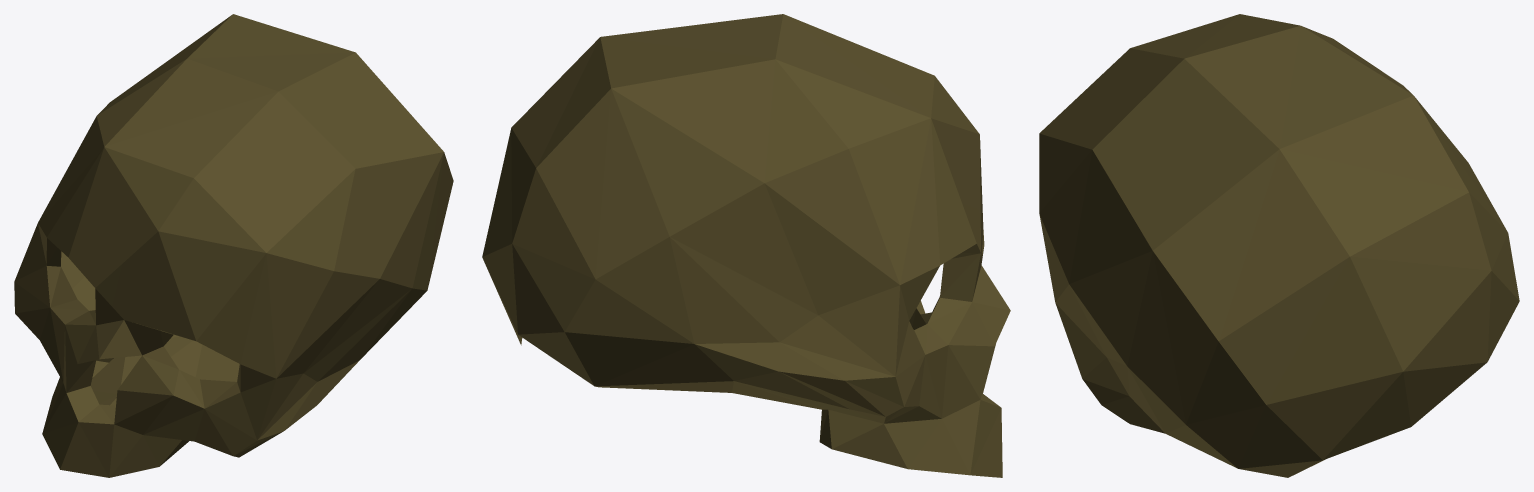
File: skull001_skull_0_lev1.glb
The picture shows the model from 3 angles, left to right: view 1: azimuth 30°, elevation 25°; view 2: azimuth 150°, elevation 25°; view 3: azimuth 270°, elevation 25°; orthographic projection. The views are drawn at different scales.
Parts seen in each view (by area): view 1: skull001_skull_0_lev1; view 2: skull001_skull_0_lev1; view 3: skull001_skull_0_lev1.
Part boxes in pixels (x1,y1,x2,y2): skull001_skull_0_lev1: (14,14,453,477); skull001_skull_0_lev1: (482,14,1010,477); skull001_skull_0_lev1: (1039,14,1519,477).
Size of the model in its own units: 0.2247 by 0.1941 by 0.1999.
